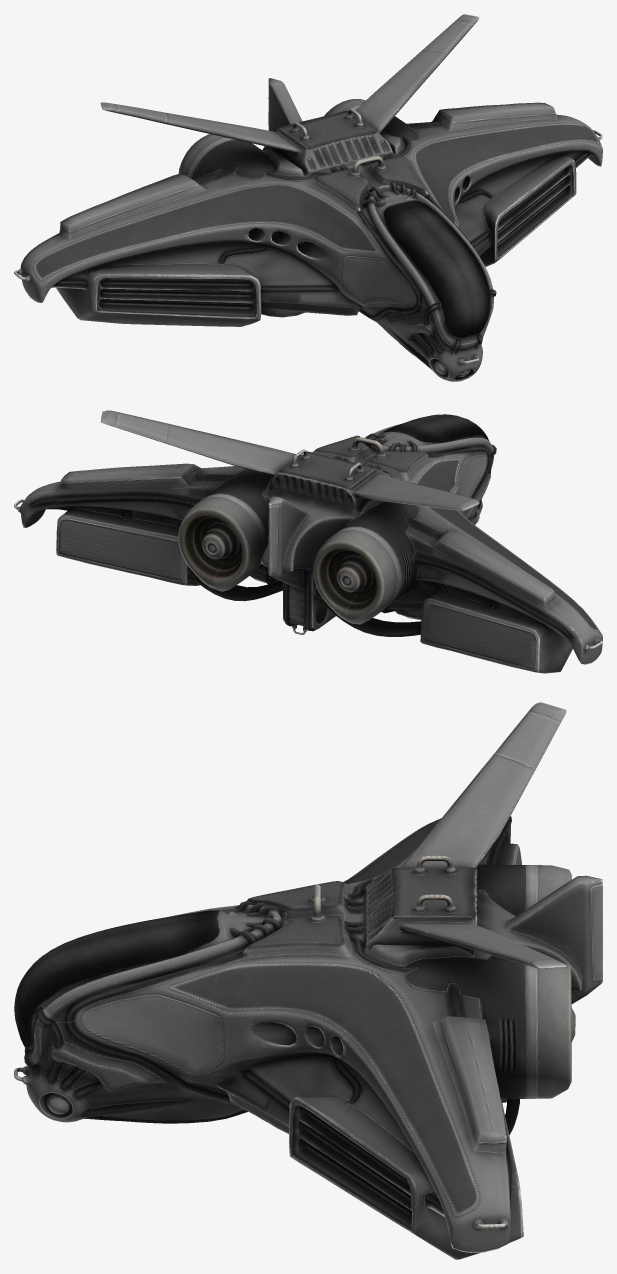
3 renders of one model, top to bottom at view 1: azimuth 30°, elevation 25°; view 2: azimuth 150°, elevation 25°; view 3: azimuth 270°, elevation 25°, orthographic. The views are drawn at different scales.
Visible parts, largest first — view 1: Intergalactic_Spaceship_RetopoGroup2; view 2: Intergalactic_Spaceship_RetopoGroup2; view 3: Intergalactic_Spaceship_RetopoGroup2.
Boxes of the visible parts, box(x1,y1,x2,y2) form: Intergalactic_Spaceship_RetopoGroup2: box(14, 14, 602, 381); Intergalactic_Spaceship_RetopoGroup2: box(14, 410, 602, 673); Intergalactic_Spaceship_RetopoGroup2: box(14, 702, 602, 1259).
Bounding box in the file's own units: 9.55 × 3.1 × 5.78.
Materials: 1 (1 with a texture image).
